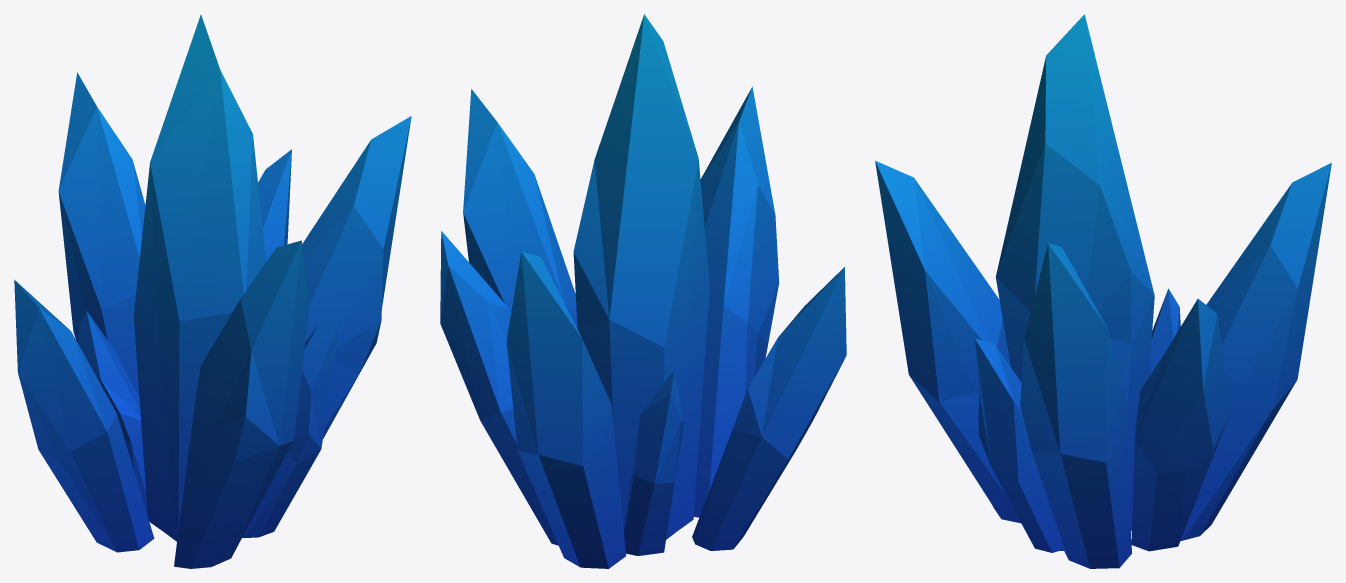
The model's file is crystal_2.glb.
The picture shows the model from 3 angles, left to right: view 1: azimuth 30°, elevation 25°; view 2: azimuth 150°, elevation 25°; view 3: azimuth 270°, elevation 25°; orthographic projection.
Parts seen in each view (by area): view 1: crystal_2; view 2: crystal_2; view 3: crystal_2.
Boxes of the visible parts, x1,y1,x2,y2 form: crystal_2: [14, 14, 411, 568]; crystal_2: [440, 14, 846, 568]; crystal_2: [875, 14, 1331, 568].
Bounding box in the file's own units: 5.78 × 7.31 × 5.92.
1 material, 1 textured.
